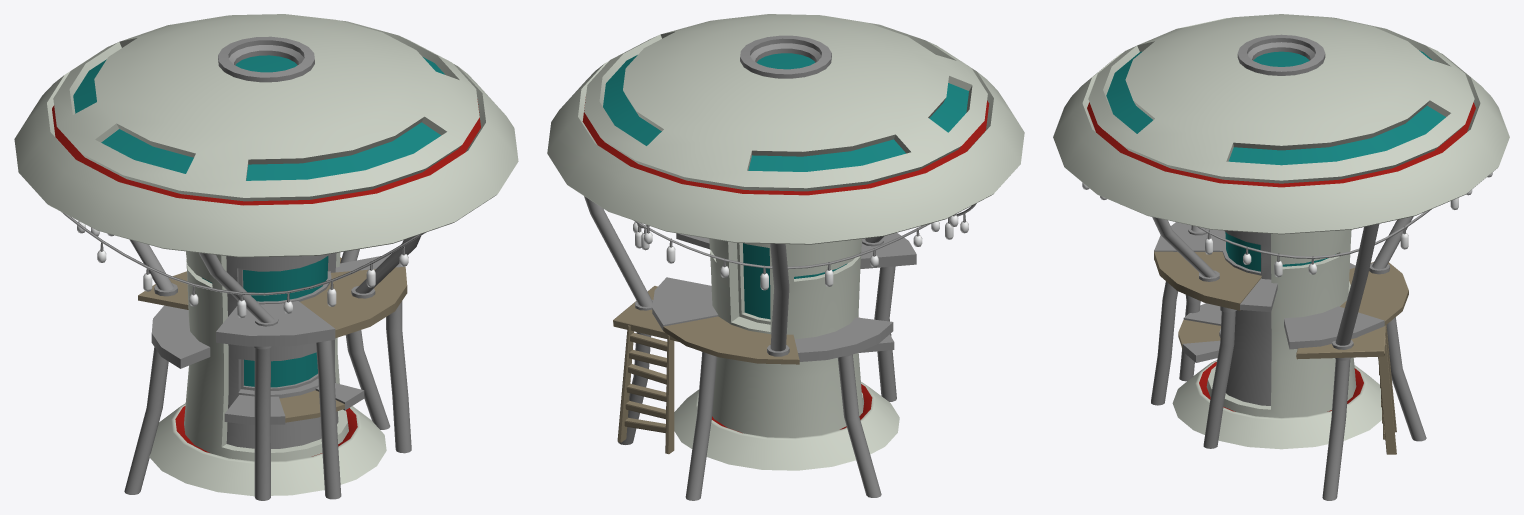
Rendered from SM_caravan_E.fbx.
The picture shows the model from 3 angles, left to right: view 1: azimuth 30°, elevation 25°; view 2: azimuth 150°, elevation 25°; view 3: azimuth 270°, elevation 25°; orthographic projection. The views are drawn at different scales.
Visible parts, largest first — view 1: SM_caravan_E; view 2: SM_caravan_E; view 3: SM_caravan_E.
Part boxes in pixels (left/top/right/bottom): SM_caravan_E: left=14, top=14, right=518, bottom=500; SM_caravan_E: left=547, top=14, right=1024, bottom=500; SM_caravan_E: left=1053, top=14, right=1509, bottom=500.
Bounding box in the file's own units: 1092 × 1009 × 1092.
